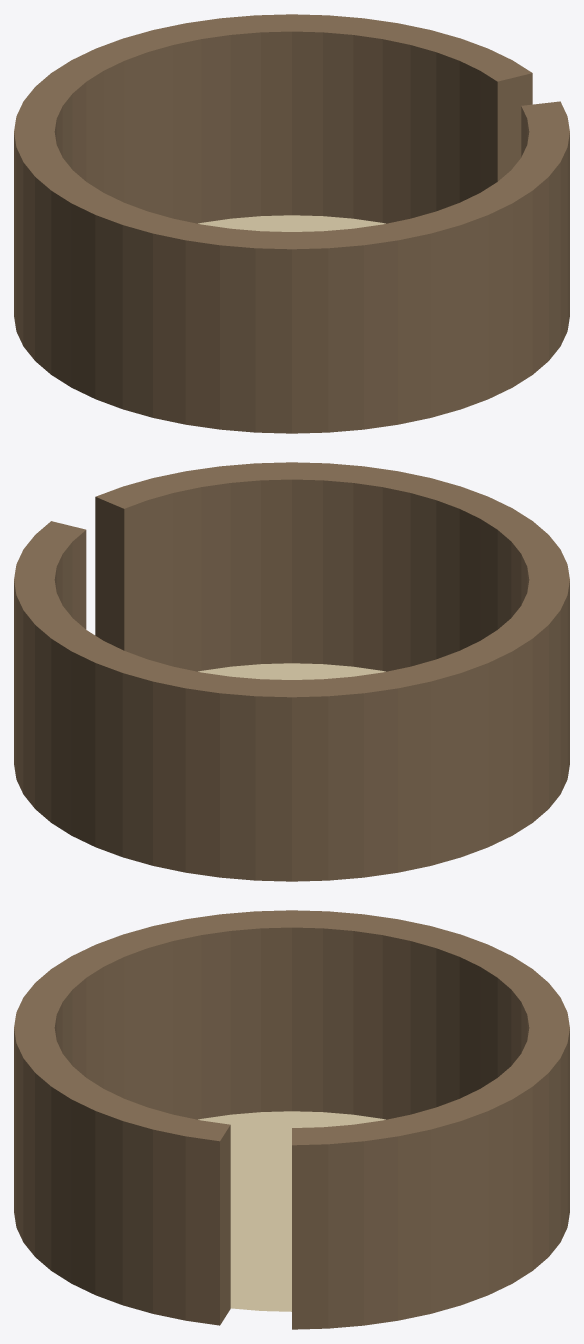
File: recinto_wari.glb
3 views of the same model, one above another, from view 1: azimuth 30°, elevation 25°; view 2: azimuth 150°, elevation 25°; view 3: azimuth 270°, elevation 25° (orthographic).
Visible parts, largest first — view 1: reconstruccion; view 2: reconstruccion; view 3: reconstruccion.
Boxes of the visible parts, x1=… form: reconstruccion: x1=14, y1=14, x2=569, y2=433; reconstruccion: x1=14, y1=462, x2=569, y2=881; reconstruccion: x1=14, y1=910, x2=569, y2=1329.
Size of the model in its own units: 8.2 by 3 by 8.2.
